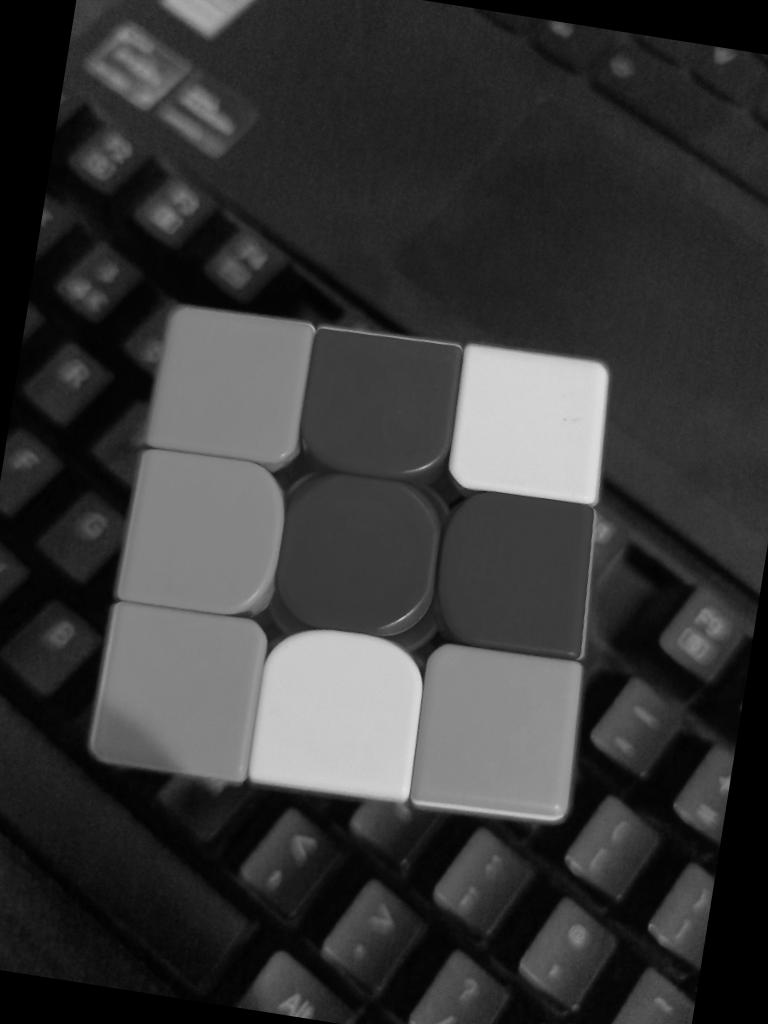rubik: (82, 290, 641, 838)
